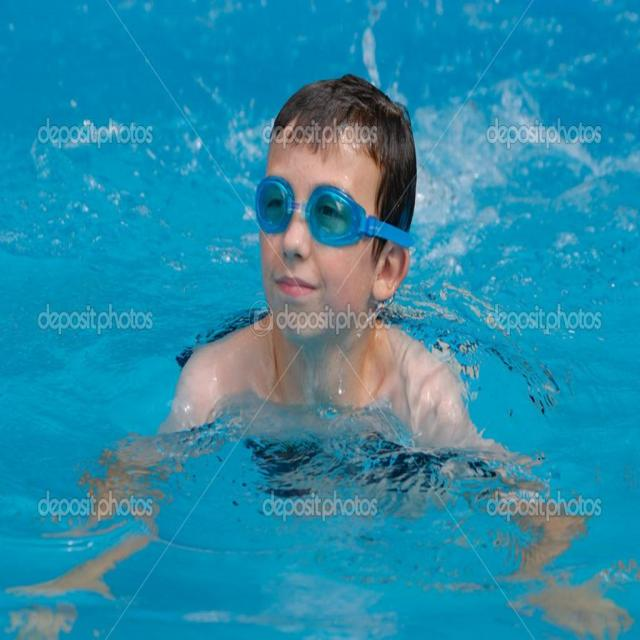nomask: (256, 153, 379, 338)
